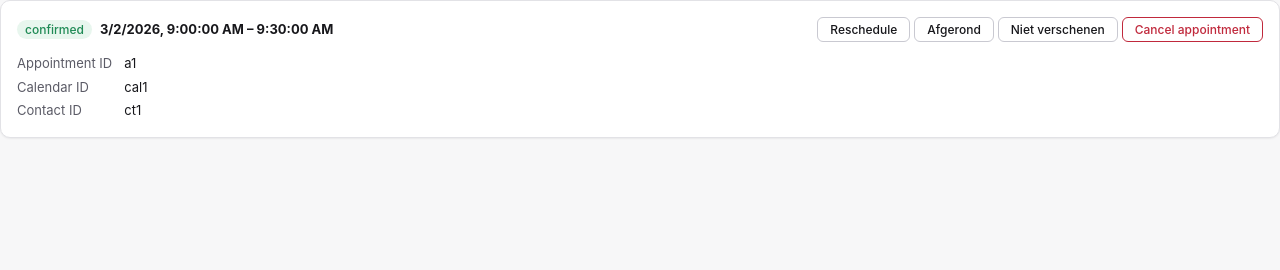
AppointmentCard › explains a 409 slot conflict as 'pick another time', not as a generic failure
Click the button "Reschedule": click(864, 30) x1=817 y1=17 x2=910 y2=42
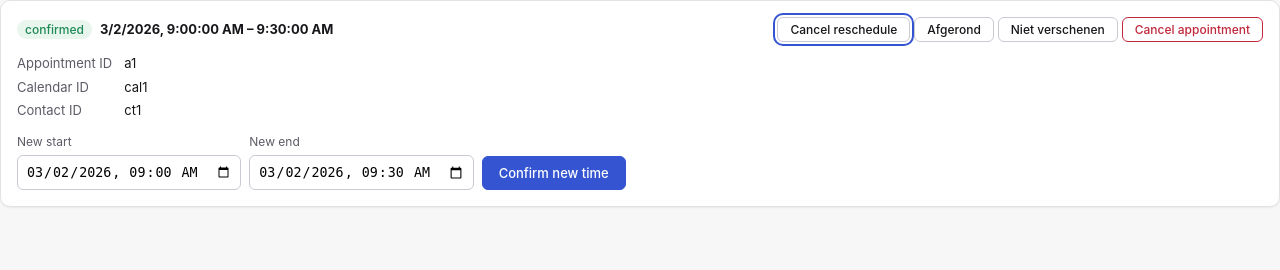
Click the button "Confirm new time": click(554, 173) x1=482 y1=156 x2=626 y2=190
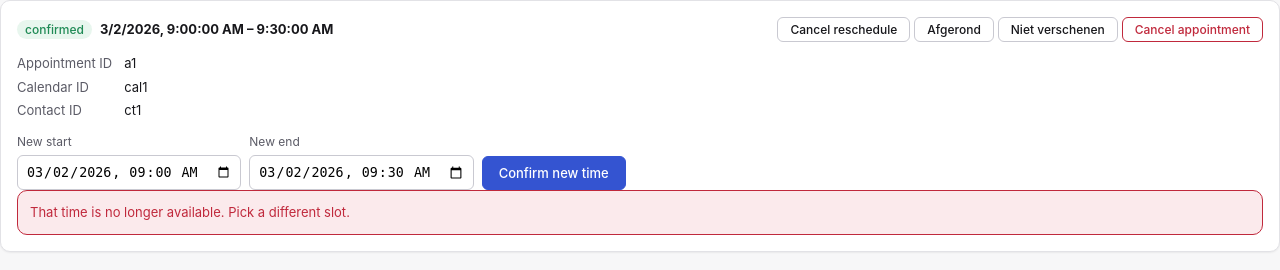
Check: the text "That time is no longer available. Pick a different slot." is shown, box x1=30 y1=204 x2=350 y2=220
